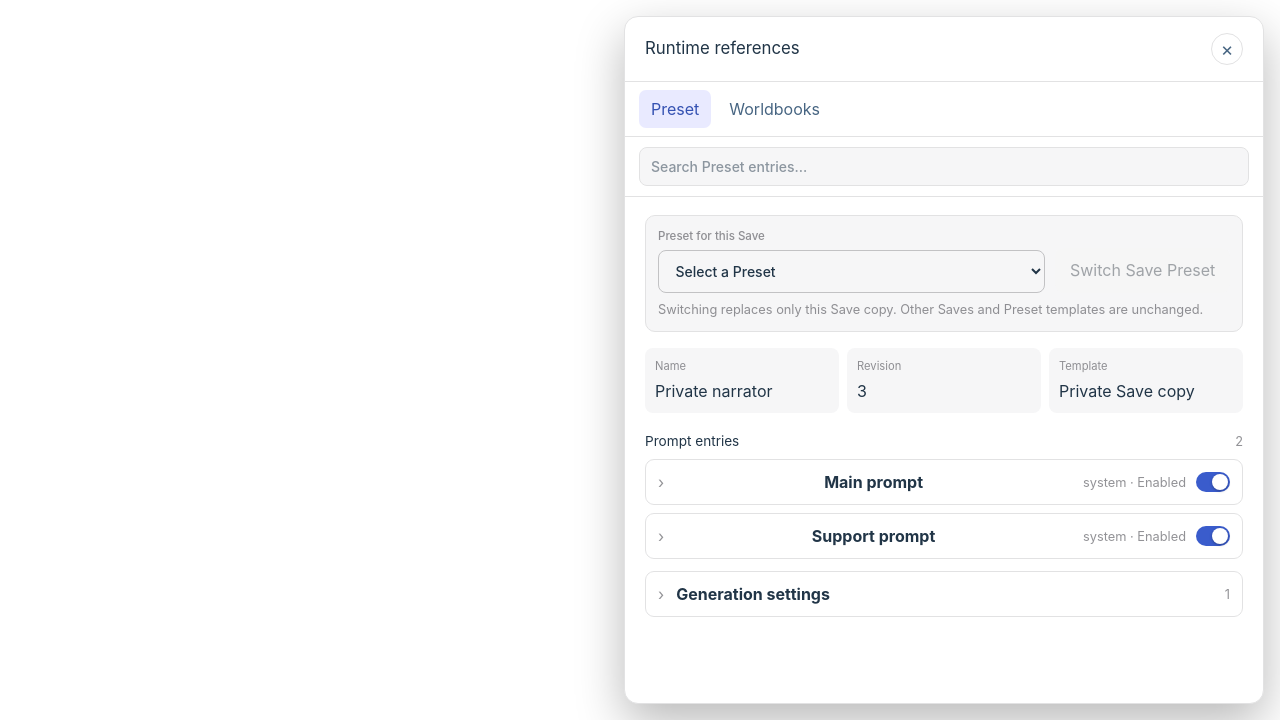
Test case: SceneReferenceViewer › switches this Save copy between Chat templates and omits retired Preset families
Expected: the text "Private narrator" is shown, [655,381,772,401]
Select "Imported narrator · chat" in the dropdown labelled "Preset for this Save". click: (852,272)
box: [658,250,1045,293]
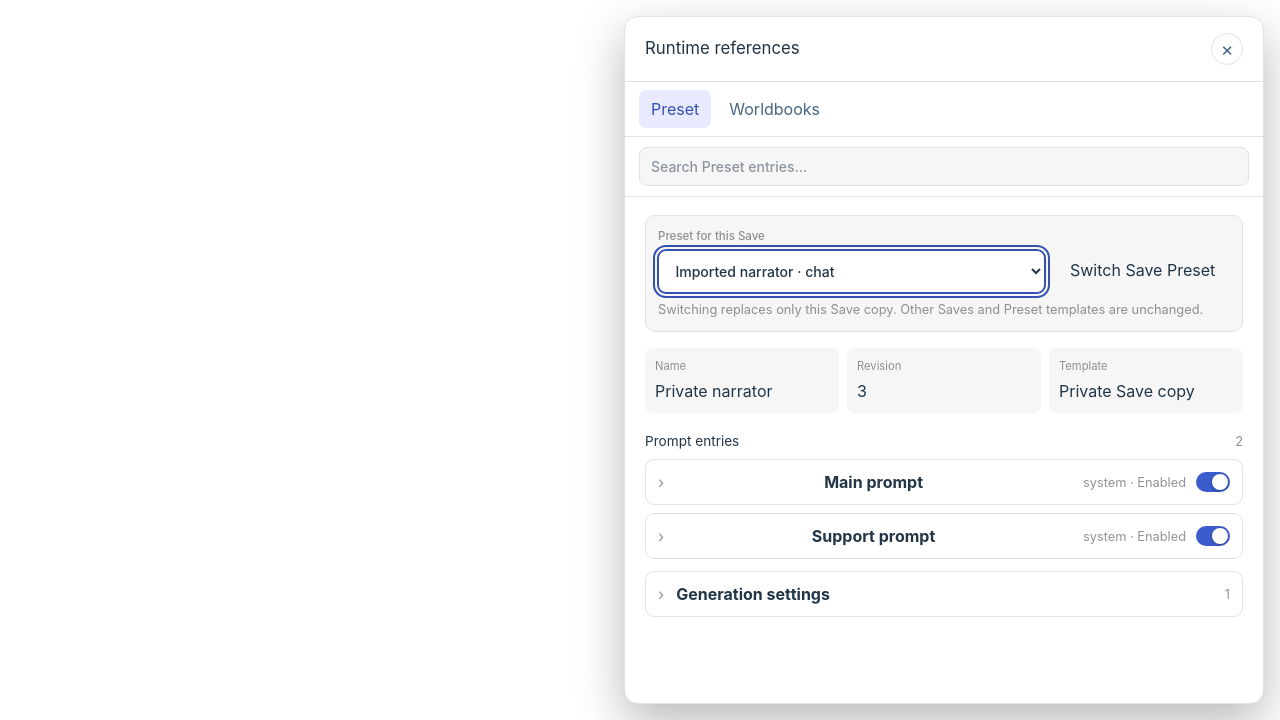
Click the button "Switch Save Preset". click: (1143,270)
box: [1055,248,1230,293]
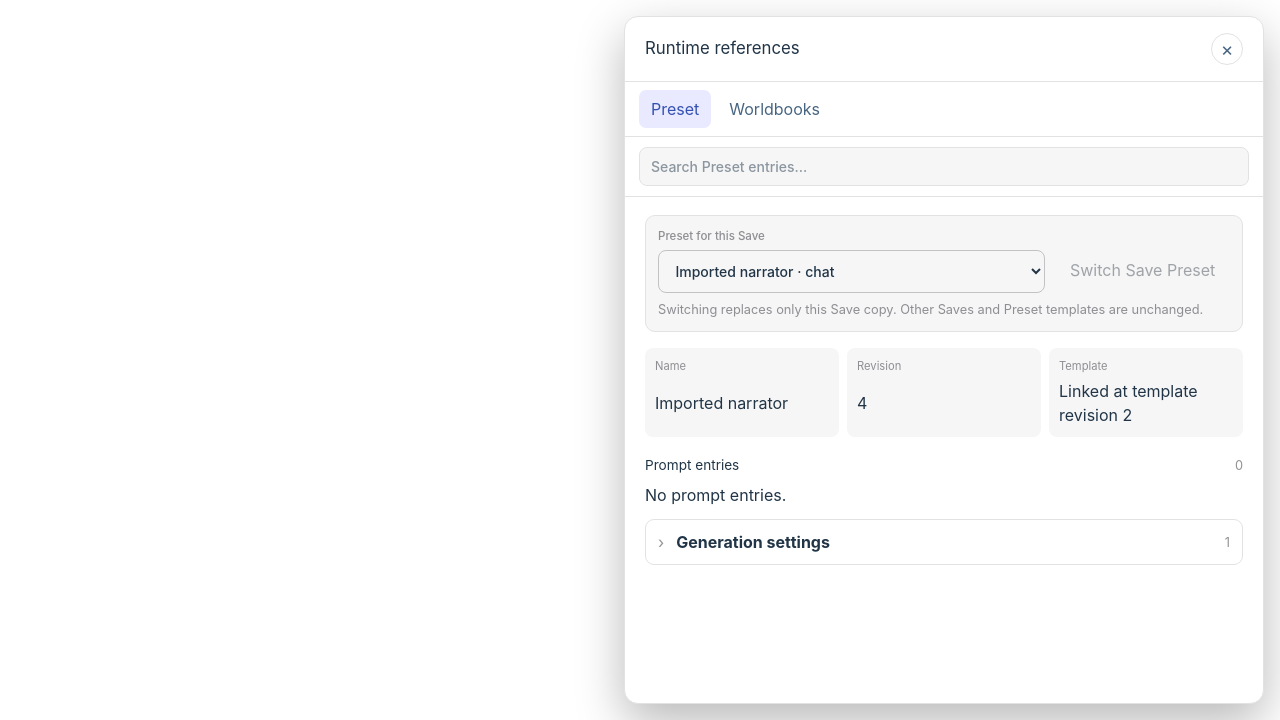
Now the text "Imported narrator" is shown, box [655,393,788,413]
